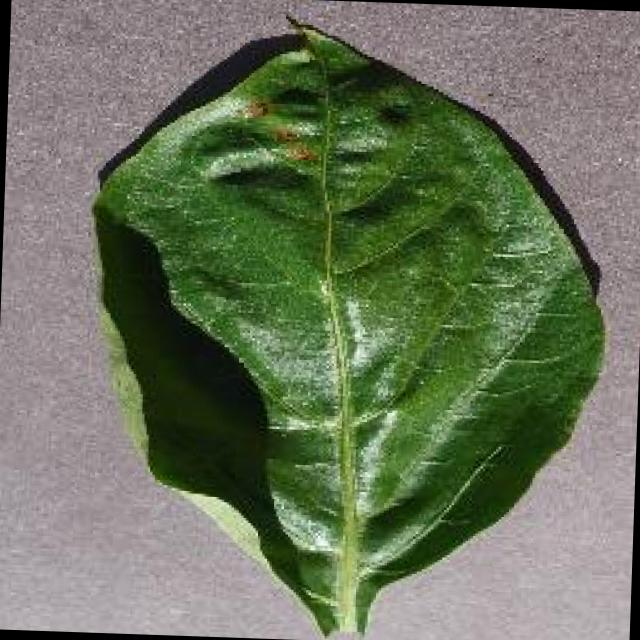Chilli_Bacterial_Spot: (72, 7, 618, 640), (236, 74, 417, 176), (235, 90, 323, 170), (262, 118, 322, 170), (372, 96, 413, 130), (280, 138, 322, 168), (237, 92, 273, 125), (264, 118, 300, 149), (314, 628, 369, 640)
